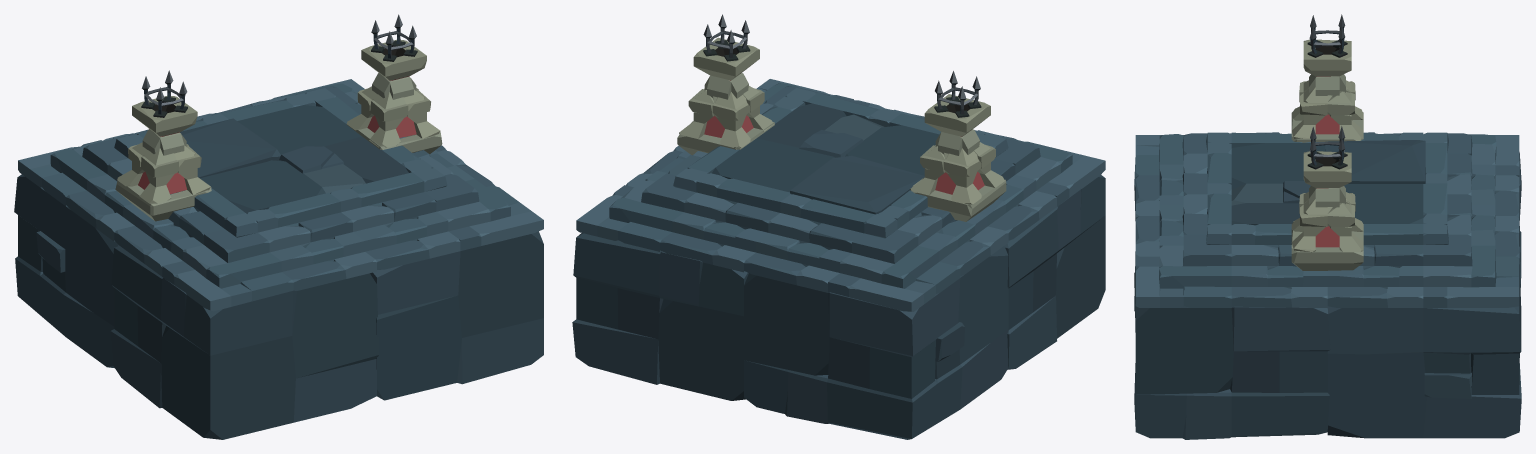
File: platform_floor_03_platform_large.fbx
The picture shows the model from 3 angles, left to right: view 1: azimuth 30°, elevation 25°; view 2: azimuth 150°, elevation 25°; view 3: azimuth 270°, elevation 25°; orthographic projection.
Visible parts, largest first — view 1: platform_floor_03_platform_large; view 2: platform_floor_03_platform_large; view 3: platform_floor_03_platform_large.
Part boxes in pixels (bbox=[...]): platform_floor_03_platform_large: bbox=[14, 14, 543, 439]; platform_floor_03_platform_large: bbox=[572, 14, 1105, 439]; platform_floor_03_platform_large: bbox=[1134, 14, 1521, 439].
Size of the model in its own units: 827 by 656 by 808.
